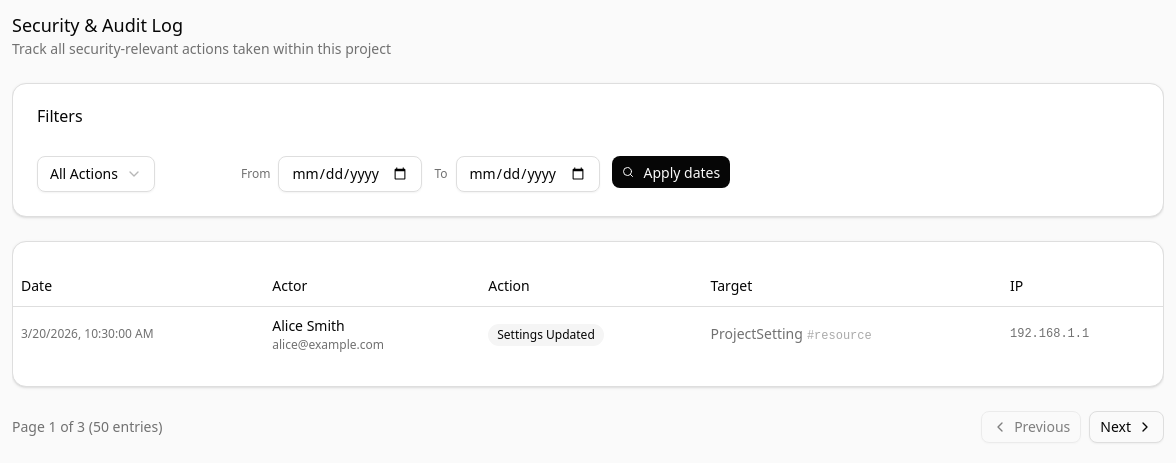
ProjectSecurityTab › Pagination › disables Next button on last page
The width and height of the screenshot is (1176, 463).
# Navigate to page 3 (last page) by clicking Next twice
Click the button "Next" at (1127, 426), box [1089, 410, 1164, 442]
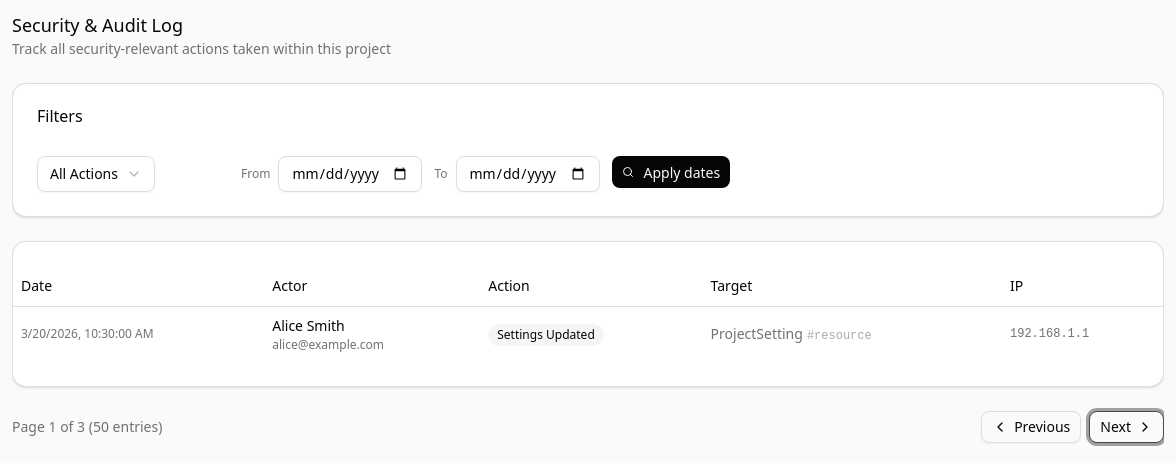
Click the button "Next" at (1127, 426), box [1089, 410, 1164, 442]
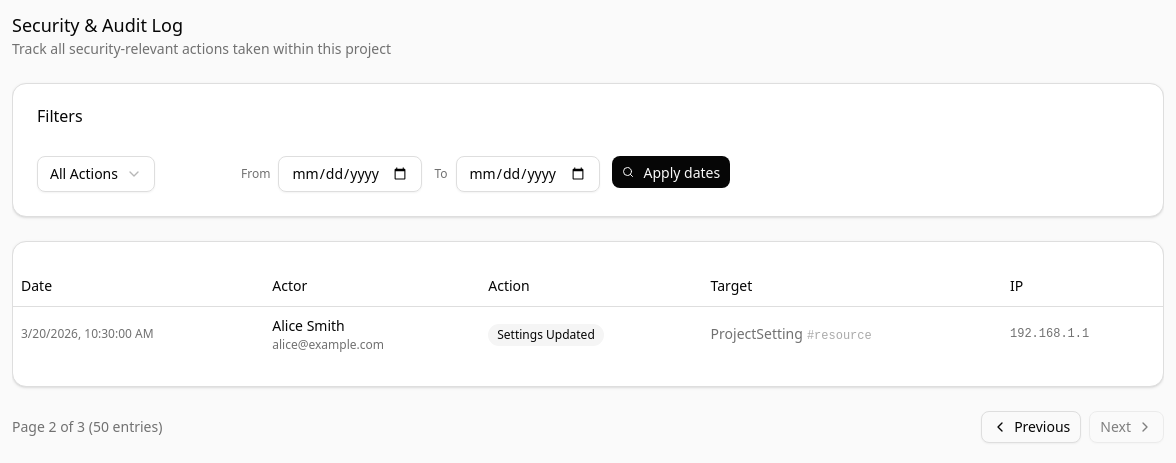
Expected: the button "Previous" is enabled, [981, 410, 1081, 442]
Expected: the button "Next" is disabled, [1089, 410, 1164, 442]
